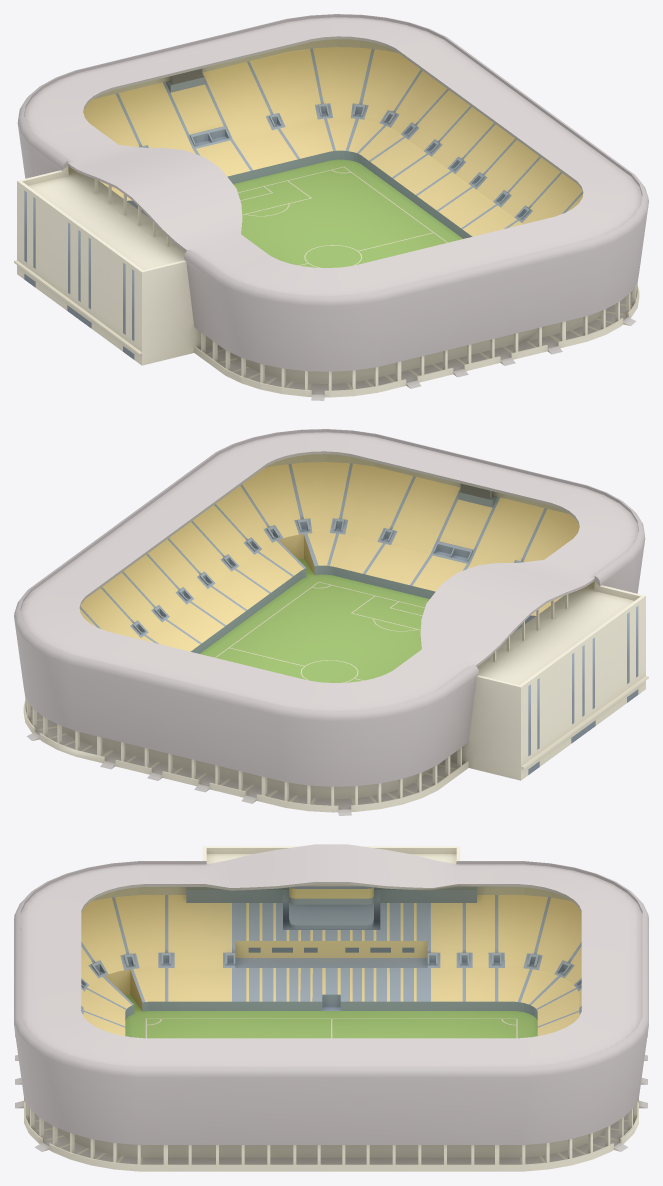
Rendered from KSA-04.glb.
3 views of the same model, one above another, from view 1: azimuth 30°, elevation 25°; view 2: azimuth 150°, elevation 25°; view 3: azimuth 270°, elevation 25° (orthographic). The views are drawn at different scales.
Parts seen in each view (by area): view 1: alawalpark_baked; view 2: alawalpark_baked; view 3: alawalpark_baked.
Part boxes in pixels (<box>): alawalpark_baked: <box>14,14,648,400</box>; alawalpark_baked: <box>14,429,648,815</box>; alawalpark_baked: <box>14,844,648,1171</box>.
Bounding box in the file's own units: 169 × 43.04 × 194.
Materials: 1 (1 with a texture image).
